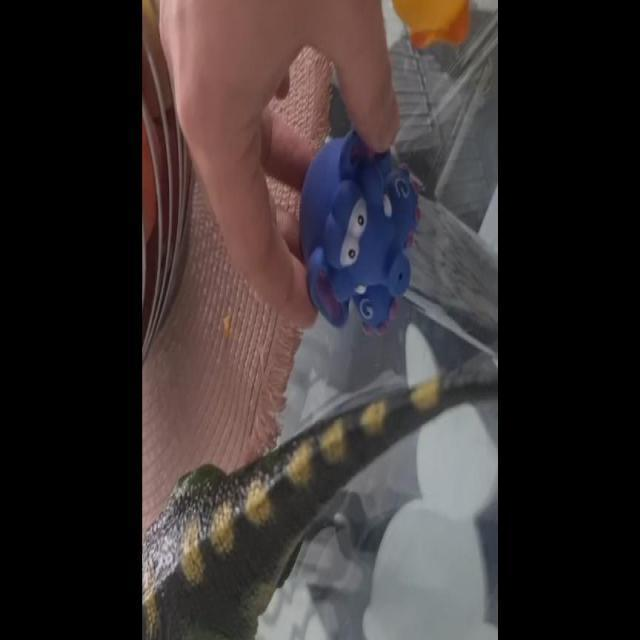hard-toy: (145, 380, 495, 640), (300, 131, 496, 362), (394, 0, 469, 49)
